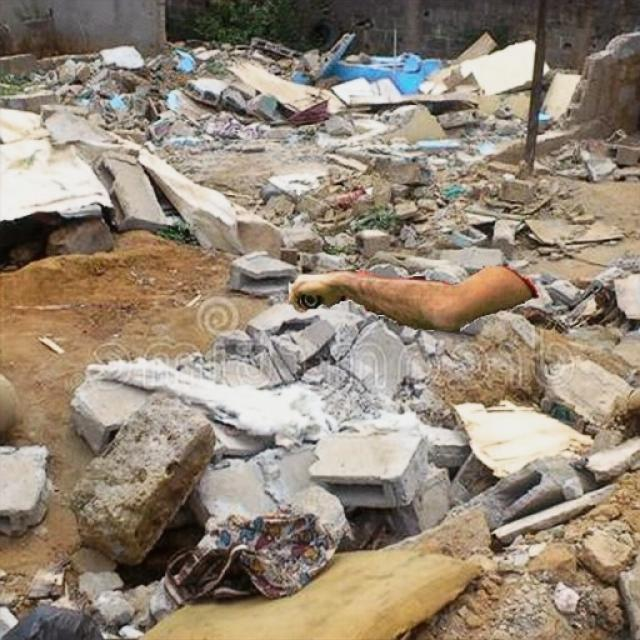Person in Rubble: (288, 266, 538, 330)
